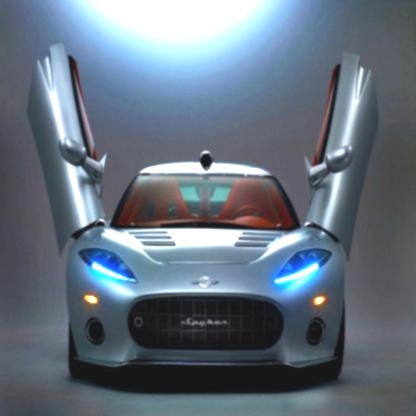Vehicle: (25, 43, 380, 391)
